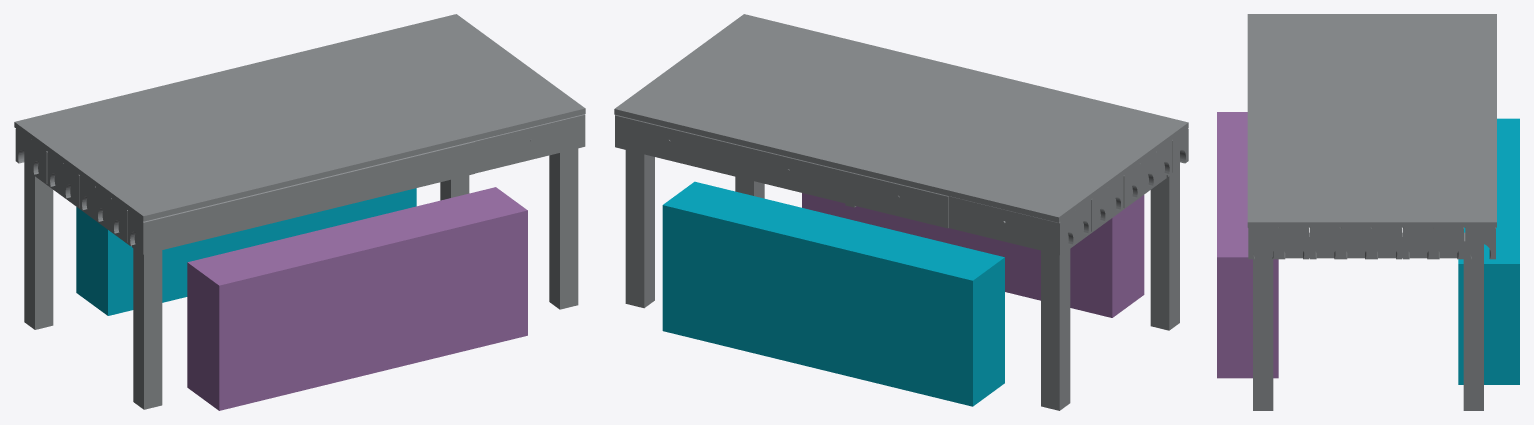
File: table.gltf
3 renders of one model, left to right at view 1: azimuth 30°, elevation 25°; view 2: azimuth 150°, elevation 25°; view 3: azimuth 270°, elevation 25°, orthographic. The views are drawn at different scales.
Parts seen in each view (by area): view 1: Mesh_Mesh_head_geo.001_lambert2SG.002; view 2: Mesh_Mesh_head_geo.001_lambert2SG.002; view 3: Mesh_Mesh_head_geo.001_lambert2SG.002.
Boxes of the visible parts, box(x1,y1,x2,y2) form: Mesh_Mesh_head_geo.001_lambert2SG.002: box(14, 14, 585, 410); Mesh_Mesh_head_geo.001_lambert2SG.002: box(614, 14, 1188, 410); Mesh_Mesh_head_geo.001_lambert2SG.002: box(1217, 14, 1519, 410).
Size of the model in its own units: 96 by 41 by 59.
